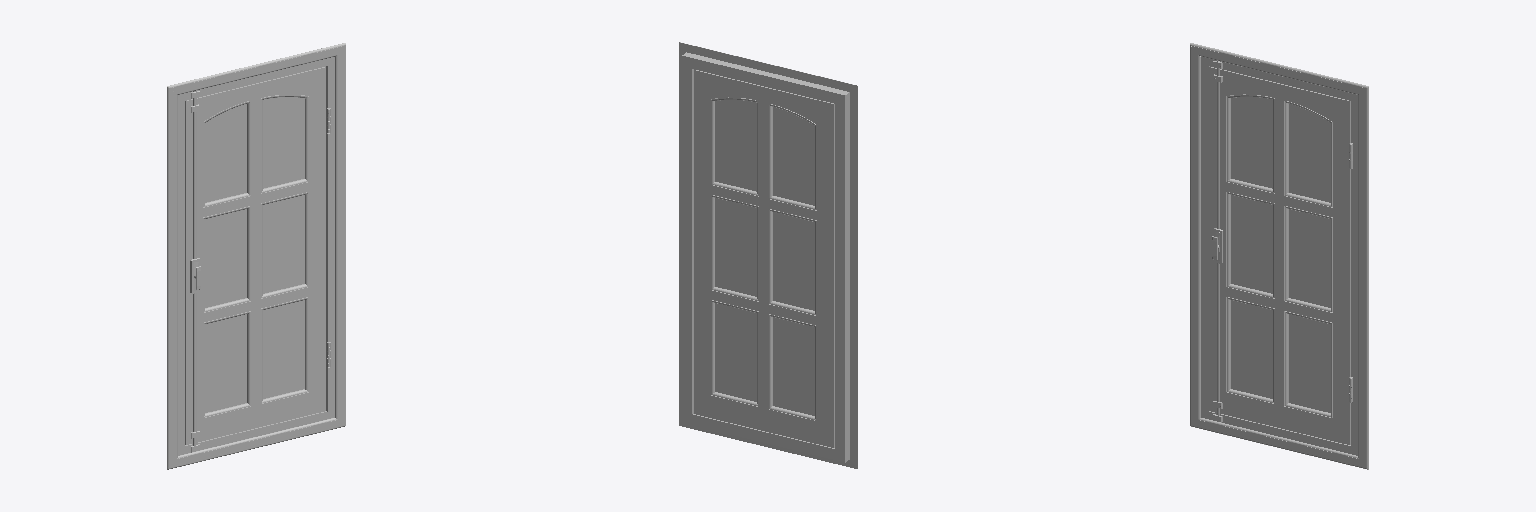
File: Ventana.obj
3 renders of one model, left to right at view 1: azimuth 30°, elevation 25°; view 2: azimuth 150°, elevation 25°; view 3: azimuth 330°, elevation 25°, orthographic.
Visible parts, largest first — view 1: Ventana.001_Plane, Vidrios_Plane.012, Contra_marco_interior_Plane.002, Marco.001_Plane.042, Varilla_Plane.011; view 2: Ventana.001_Plane, Vidrios_Plane.012, Marco.001_Plane.042, Contra_marco_interior_Plane.002; view 3: Ventana.001_Plane, Vidrios_Plane.012, Contra_marco_interior_Plane.002, Marco.001_Plane.042, Varilla_Plane.011.
Part boxes in pixels (left/top/right/bottom): Ventana.001_Plane: left=185, top=67, right=325, bottom=444; Vidrios_Plane.012: left=205, top=97, right=304, bottom=412; Contra_marco_interior_Plane.002: left=167, top=43, right=345, bottom=469; Marco.001_Plane.042: left=178, top=57, right=334, bottom=455; Varilla_Plane.011: left=193, top=91, right=196, bottom=445; Ventana.001_Plane: left=694, top=70, right=834, bottom=447; Vidrios_Plane.012: left=715, top=100, right=814, bottom=415; Marco.001_Plane.042: left=682, top=52, right=849, bottom=462; Contra_marco_interior_Plane.002: left=679, top=42, right=857, bottom=468; Ventana.001_Plane: left=1209, top=67, right=1350, bottom=444; Vidrios_Plane.012: left=1231, top=97, right=1330, bottom=412; Contra_marco_interior_Plane.002: left=1190, top=43, right=1368, bottom=469; Marco.001_Plane.042: left=1201, top=57, right=1357, bottom=455; Varilla_Plane.011: left=1217, top=61, right=1219, bottom=415.
Bounding box in the file's own units: 2.5 × 5.13 × 0.2067.